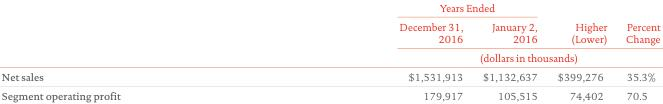table: (0, 1, 659, 101)
table column: (0, 1, 259, 101), (259, 1, 472, 101), (472, 1, 546, 101), (546, 1, 615, 101), (615, 1, 659, 101)
table column header: (0, 1, 659, 66)
table row: (0, 16, 659, 47), (0, 47, 659, 66), (0, 66, 659, 85), (0, 85, 659, 101), (0, 1, 659, 16)
table spanning cell: (259, 47, 659, 66), (259, 1, 546, 16), (546, 1, 615, 47), (615, 1, 659, 47)
